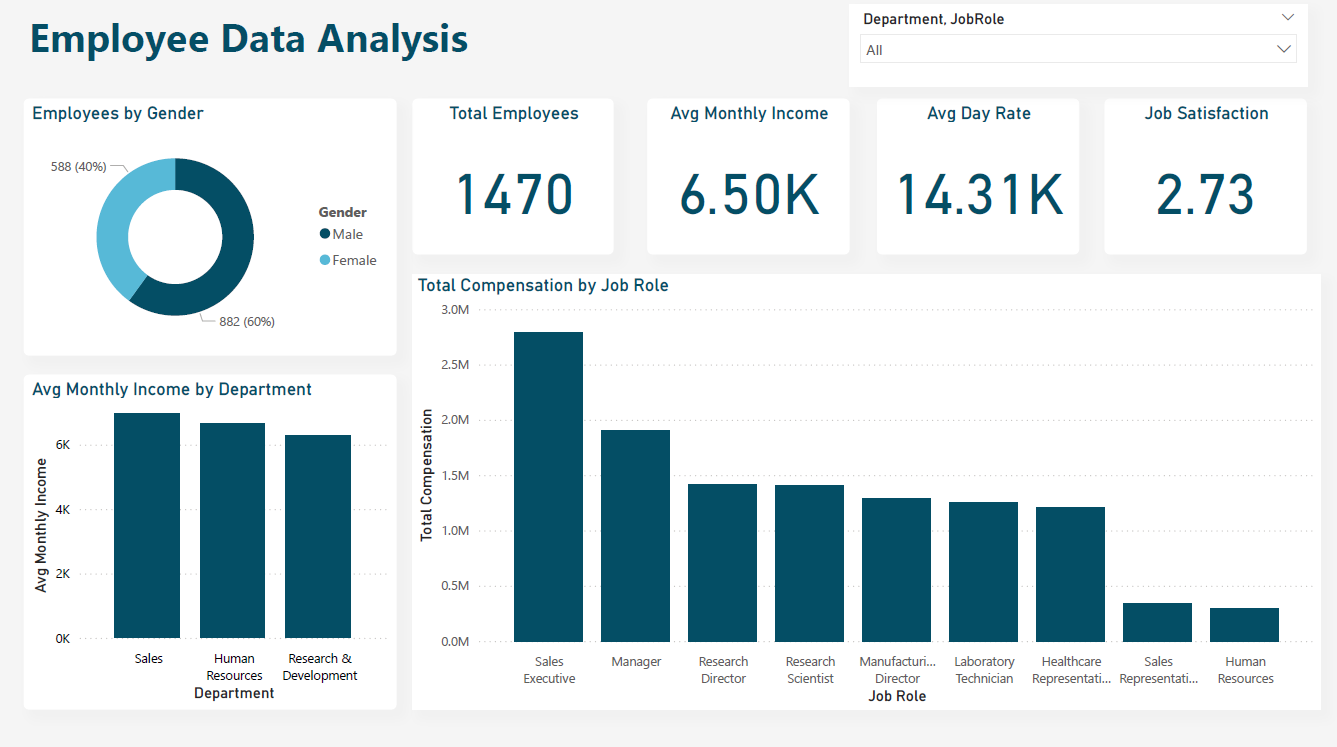

Layout of this report page (visuals, bound fields, positions):
{"tool":"powerbi","page":{"name":"Page 1","canvas":[1280,720],"ordinal":0},"visuals":[{"type":"shape","box":[0,0,1280.3,719.6],"z":0},{"type":"card","title":"Total Employees","fields":{"Values":["Count(hr.EmployeeNumber)"]},"box":[394.5,99.1,191.9,148],"z":1000},{"type":"columnChart","title":"Avg Monthly Income by Department","fields":{"Category":["hr.Department"],"Y":["Avg(hr.MonthlyIncome)"]},"box":[26,360.5,353.7,318],"z":2000},{"type":"donutChart","title":"Employees by Gender","fields":{"Y":["CountNonNull(hr.EmployeeNumber)"],"Category":["hr.Gender"]},"box":[26,98.7,353.7,244],"z":3000},{"type":"lineStackedColumnComboChart","title":"Total Compensation by Job Role","fields":{"Category":["hr.JobRole"],"Y":["Sum(hr.TotalCompensation)"]},"box":[394.8,265.9,862.2,412.6],"z":4000},{"type":"card","title":"Avg Monthly Income","fields":{"Values":["Avg(hr.MonthlyIncome)"]},"box":[617.9,99.1,191.9,148],"z":5000},{"type":"card","title":"Avg Day Rate","fields":{"Values":["Avg(hr.MonthlyRate)"]},"box":[835.9,99.1,191.9,148],"z":6000},{"type":"card","title":"Job Satisfaction","fields":{"Values":["Avg(hr.JobSatisfaction)"]},"box":[1052.5,99.1,191.9,148],"z":7000},{"type":"textbox","box":[25.7,9.8,479.4,78.3],"z":8000},{"type":"slicer","fields":{"Values":["hr.Department","hr.JobRole"]},"box":[809.5,9.8,435.3,78.3],"z":9000}]}

Visuals, with their boxes in screenshot pixels (x1, y1, x2, y2), scaled from the page's 1280x720 canvas onto the 1337x747 screenshot:
shape: <region>0, 0, 1336, 746</region>
"Total Employees" card: <region>412, 103, 613, 256</region>
"Avg Monthly Income by Department" columnChart: <region>27, 374, 397, 704</region>
"Employees by Gender" donutChart: <region>27, 102, 397, 356</region>
"Total Compensation by Job Role" lineStackedColumnComboChart: <region>412, 276, 1313, 704</region>
"Avg Monthly Income" card: <region>645, 103, 846, 256</region>
"Avg Day Rate" card: <region>873, 103, 1074, 256</region>
"Job Satisfaction" card: <region>1099, 103, 1300, 256</region>
textbox: <region>27, 10, 528, 91</region>
slicer - hr.Department x hr.JobRole: <region>846, 10, 1300, 91</region>
